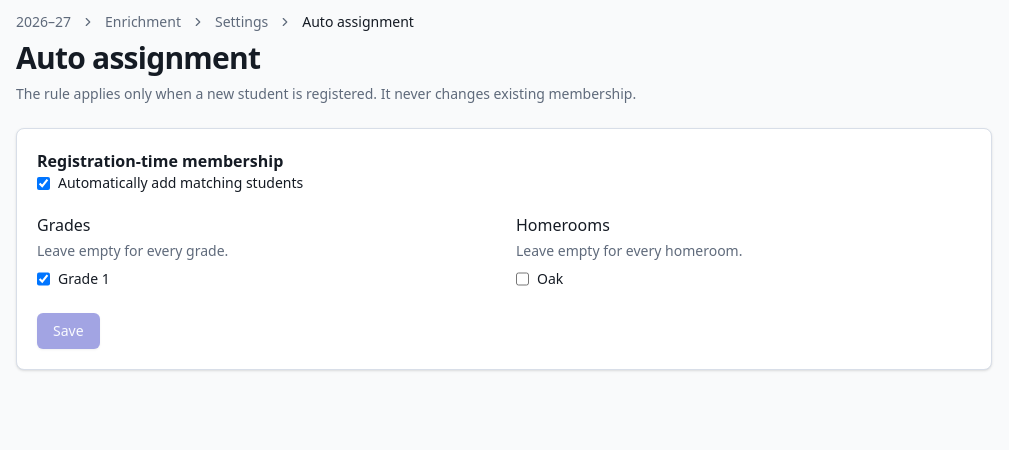
Test: program navigation › enables Save for changed criteria and disables it when the selections are restored
The width and height of the screenshot is (1009, 450).
Expected: the button "Save" is disabled, [37, 313, 100, 349]
Click the checkbox labelled "Grade 1": (44, 279) [37, 269, 50, 289]
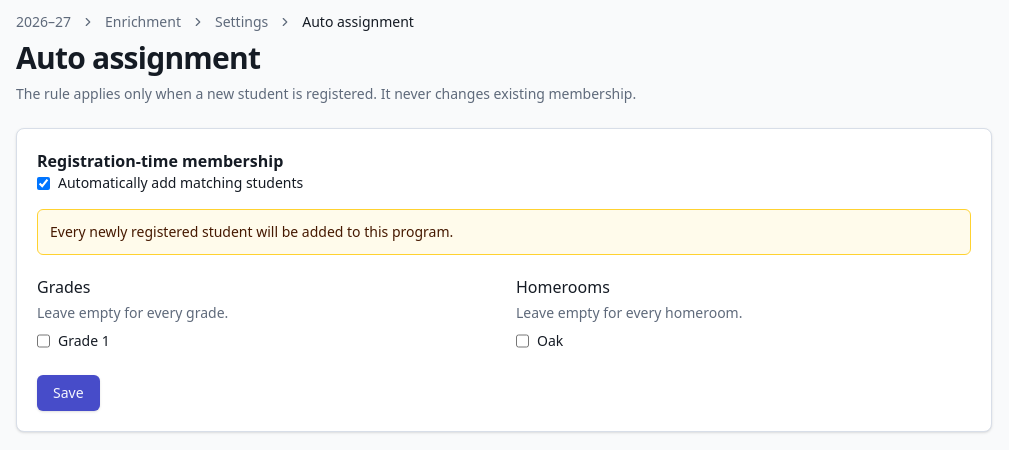
Expected: the button "Save" is enabled, [37, 375, 100, 411]
Click the checkbox labelled "Grade 1": (44, 341) [37, 331, 50, 351]
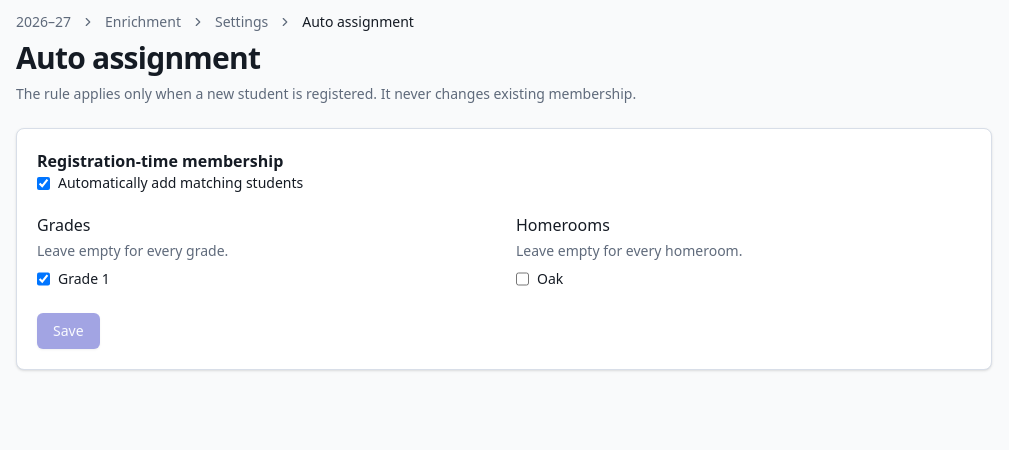
Expected: the button "Save" is disabled, [37, 313, 100, 349]
Click the checkbox labelled "Oak": (522, 279) [516, 269, 529, 289]
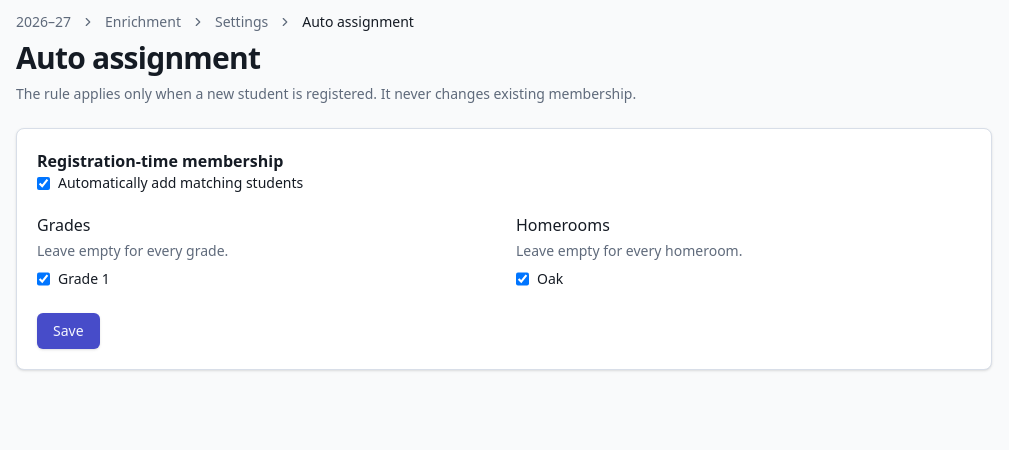
Expected: the button "Save" is enabled, [37, 313, 100, 349]
Click the checkbox labelled "Oak": (522, 279) [516, 269, 529, 289]
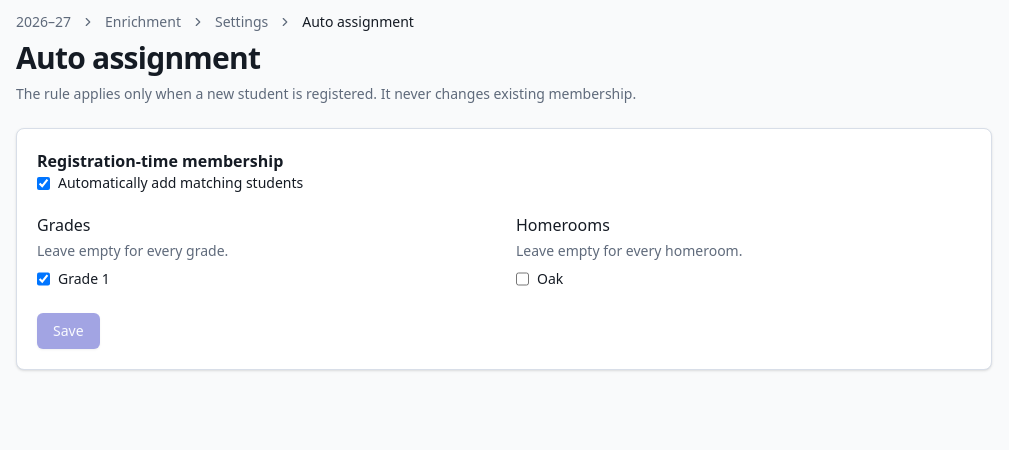
Expected: the button "Save" is disabled, [37, 313, 100, 349]
